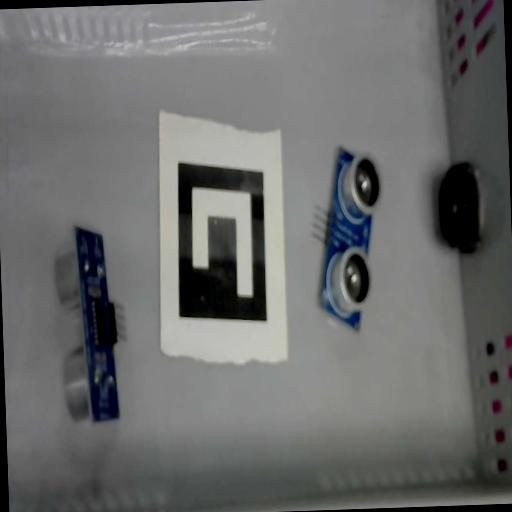QR: (174, 159, 268, 324)
ultrasonic_hc-sr04: (52, 222, 130, 426), (307, 144, 386, 334)
